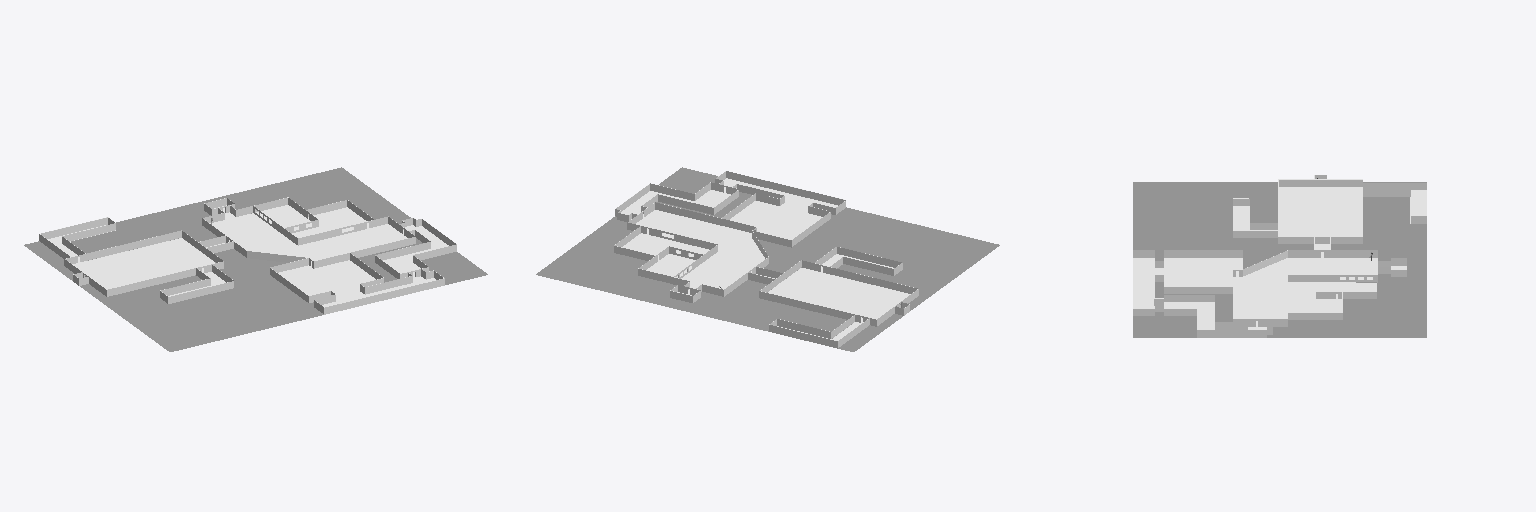
Rendered from avance.obj.
3 renders of one model, left to right at view 1: azimuth 30°, elevation 25°; view 2: azimuth 150°, elevation 25°; view 3: azimuth 270°, elevation 25°, orthographic.
Parts seen in each view (by area): view 1: ground_1, room_100_463, room_96_459, room_106_469, room_102_465, wall_68_389, wall_29_166, wall_31_179, wall_13_71, room_101_464, wall_9_47; view 2: ground_1, room_100_463, room_96_459, room_106_469, room_102_465, wall_68_388, wall_29_167, wall_31_178, room_101_464, wall_13_70, room_107_470, wall_9_46; view 3: ground_1, room_100_463, room_96_459, room_106_469, room_102_465, room_107_470, wall_12_64, wall_63_358, room_101_464, wall_30_173, wall_28_160, wall_53_304 (+1 smaller).
Part boxes in pixels (bbox=[...]): ground_1: bbox=[24, 167, 487, 351]; room_100_463: bbox=[210, 212, 407, 266]; room_96_459: bbox=[72, 238, 214, 289]; room_106_469: bbox=[278, 260, 375, 296]; room_102_465: bbox=[292, 207, 368, 237]; wall_68_389: bbox=[324, 278, 444, 314]; wall_29_166: bbox=[107, 261, 223, 296]; wall_31_179: bbox=[65, 230, 181, 262]; wall_13_71: bbox=[314, 237, 415, 268]; room_101_464: bbox=[256, 205, 311, 230]; wall_9_47: bbox=[299, 216, 388, 244]; ground_1: bbox=[536, 167, 999, 351]; room_100_463: bbox=[636, 210, 764, 294]; room_96_459: bbox=[768, 268, 910, 322]; room_106_469: bbox=[730, 201, 821, 239]; room_102_465: bbox=[622, 233, 708, 260]; wall_68_388: bbox=[726, 171, 845, 205]; wall_29_167: bbox=[802, 260, 917, 293]; wall_31_178: bbox=[759, 291, 876, 326]; room_101_464: bbox=[647, 254, 695, 277]; wall_13_70: bbox=[655, 202, 755, 231]; room_107_470: bbox=[723, 178, 837, 207]; wall_9_46: bbox=[627, 222, 716, 249]; ground_1: bbox=[1133, 182, 1426, 337]; room_100_463: bbox=[1233, 258, 1377, 325]; room_96_459: bbox=[1279, 187, 1362, 236]; room_106_469: bbox=[1164, 258, 1242, 286]; room_102_465: bbox=[1288, 282, 1341, 312]; room_107_470: bbox=[1133, 258, 1154, 308]; wall_12_64: bbox=[1288, 250, 1377, 257]; wall_63_358: bbox=[1164, 250, 1242, 257]; room_101_464: bbox=[1316, 282, 1376, 298]; wall_30_173: bbox=[1279, 180, 1362, 186]; wall_28_160: bbox=[1278, 237, 1362, 243]; wall_53_304: bbox=[1197, 330, 1266, 337].
Bounding box in the file's own units: 11512 × 271 × 9188.